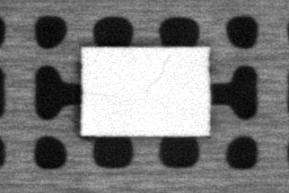DIE_CRACK: (141, 52, 173, 95)
